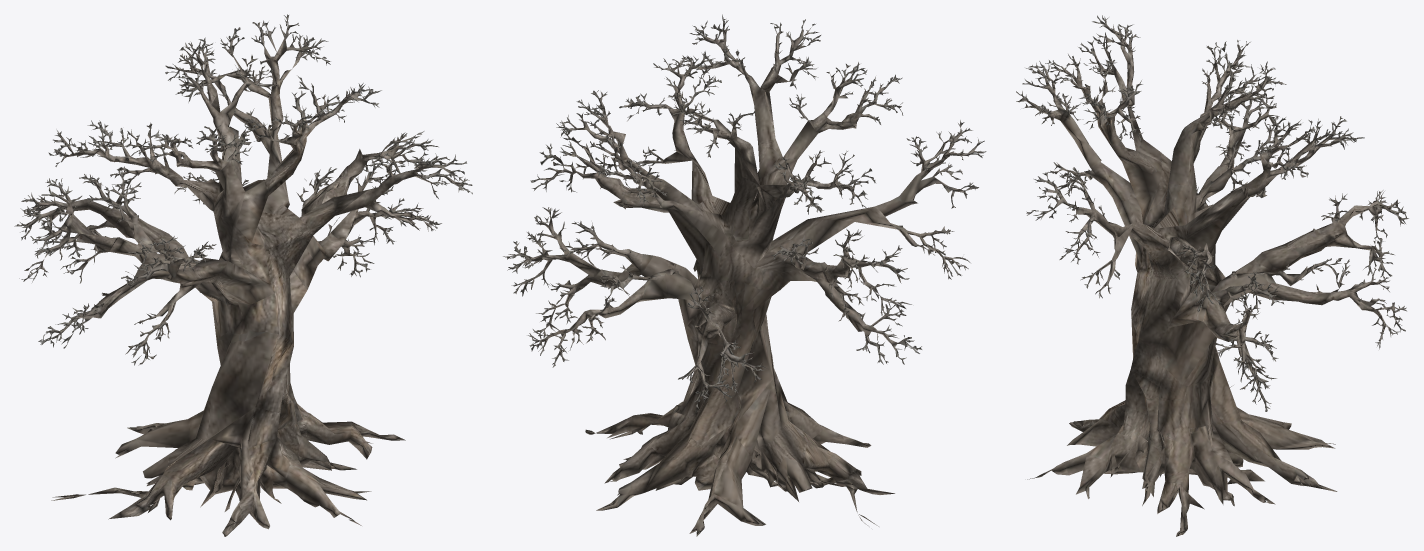
The model's file is tree_sentinel.glb.
The picture shows the model from 3 angles, left to right: view 1: azimuth 30°, elevation 25°; view 2: azimuth 150°, elevation 25°; view 3: azimuth 270°, elevation 25°; orthographic projection. The views are drawn at different scales.
Parts seen in each view (by area): view 1: tree_sentinel; view 2: tree_sentinel; view 3: tree_sentinel.
Part boxes in pixels (x1=…): tree_sentinel: x1=14, y1=14, x2=472, y2=536; tree_sentinel: x1=503, y1=14, x2=986, y2=536; tree_sentinel: x1=1016, y1=15, x2=1408, y2=536.
Bounding box in the file's own units: 189 × 187 × 166.
1 material, 1 textured.
